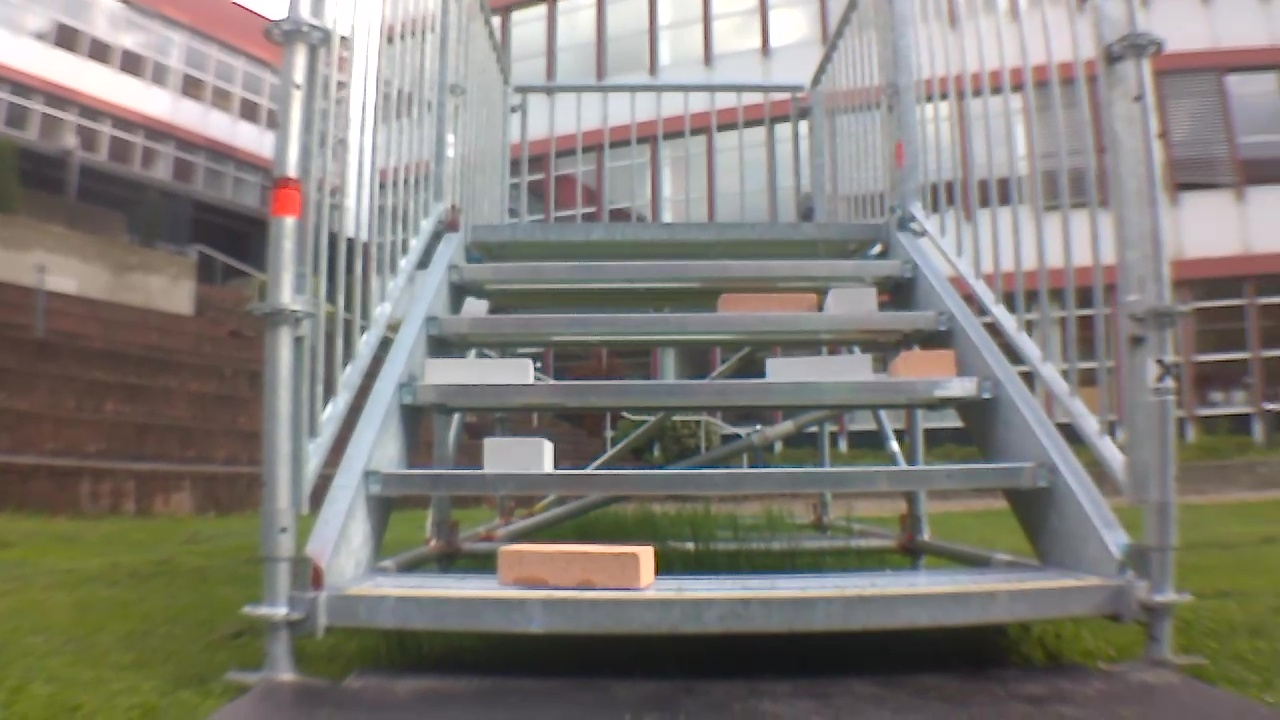brick: (499, 544, 654, 588), (426, 358, 532, 383), (768, 354, 870, 379), (484, 437, 554, 472), (888, 351, 955, 377), (719, 294, 817, 311), (823, 289, 875, 313)
edge: (326, 583, 1119, 632), (367, 462, 1058, 494), (400, 375, 998, 404), (429, 310, 954, 332), (449, 261, 919, 282), (472, 220, 886, 241)
stairs: (246, 6, 1208, 663)
steps: (316, 215, 1140, 643)
